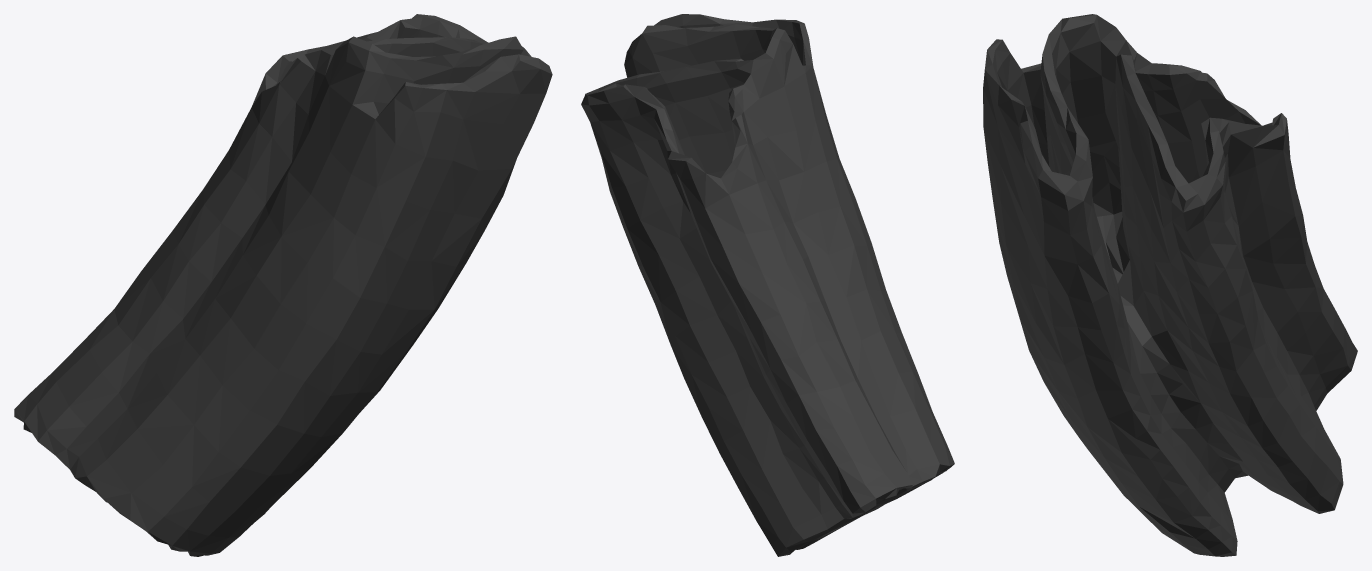
Rendered from Upper_M3.glb.
3 views of the same model, side by side, from view 1: azimuth 30°, elevation 25°; view 2: azimuth 150°, elevation 25°; view 3: azimuth 270°, elevation 25° (orthographic). The views are drawn at different scales.
Visible parts, largest first — view 1: Upper_M3; view 2: Upper_M3; view 3: Upper_M3.
Boxes of the visible parts, x1=… form: Upper_M3: x1=14, y1=14, x2=552, y2=556; Upper_M3: x1=581, y1=14, x2=954, y2=556; Upper_M3: x1=983, y1=14, x2=1357, y2=556.
Size of the model in its own units: 0.6098 by 0.729 by 0.4177.
Materials: 1 (1 with a texture image).
